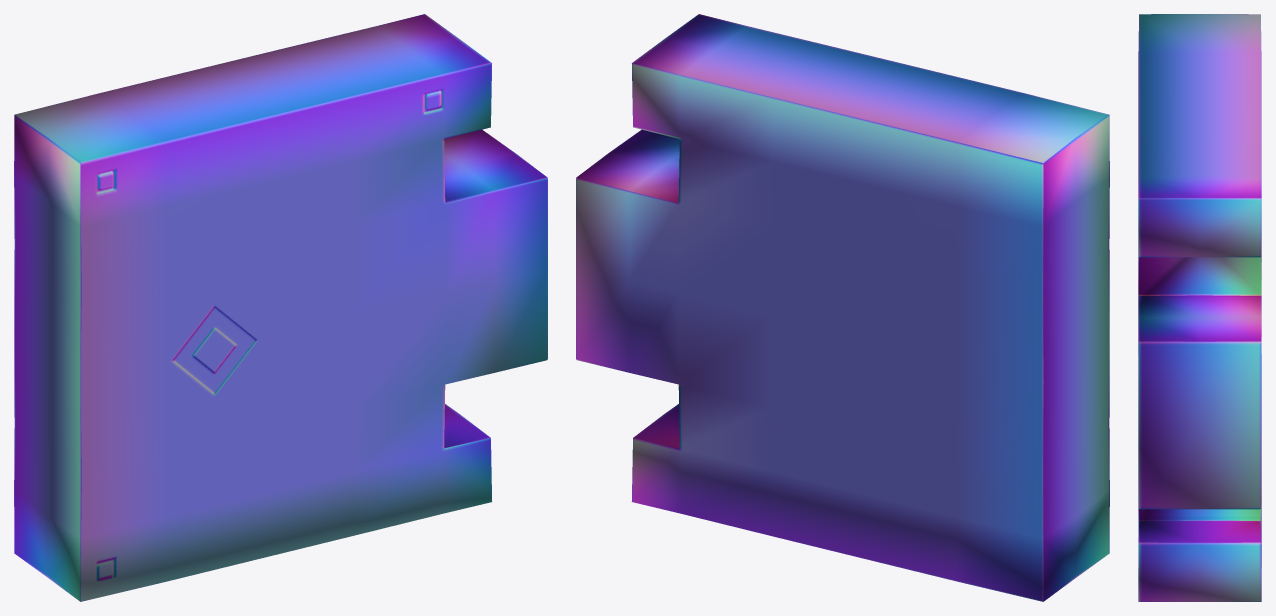
Rendered from DoorA.fbx.
3 renders of one model, left to right at view 1: azimuth 30°, elevation 25°; view 2: azimuth 150°, elevation 25°; view 3: azimuth 270°, elevation 25°, orthographic. The views are drawn at different scales.
Visible parts, largest first — view 1: RetopoGroup1; view 2: RetopoGroup1; view 3: RetopoGroup1.
Boxes of the visible parts, bbox=[...] form: RetopoGroup1: bbox=[14, 14, 547, 601]; RetopoGroup1: bbox=[576, 14, 1109, 601]; RetopoGroup1: bbox=[1138, 14, 1261, 601].
Bounding box in the file's own units: 324 × 291 × 80.55.
